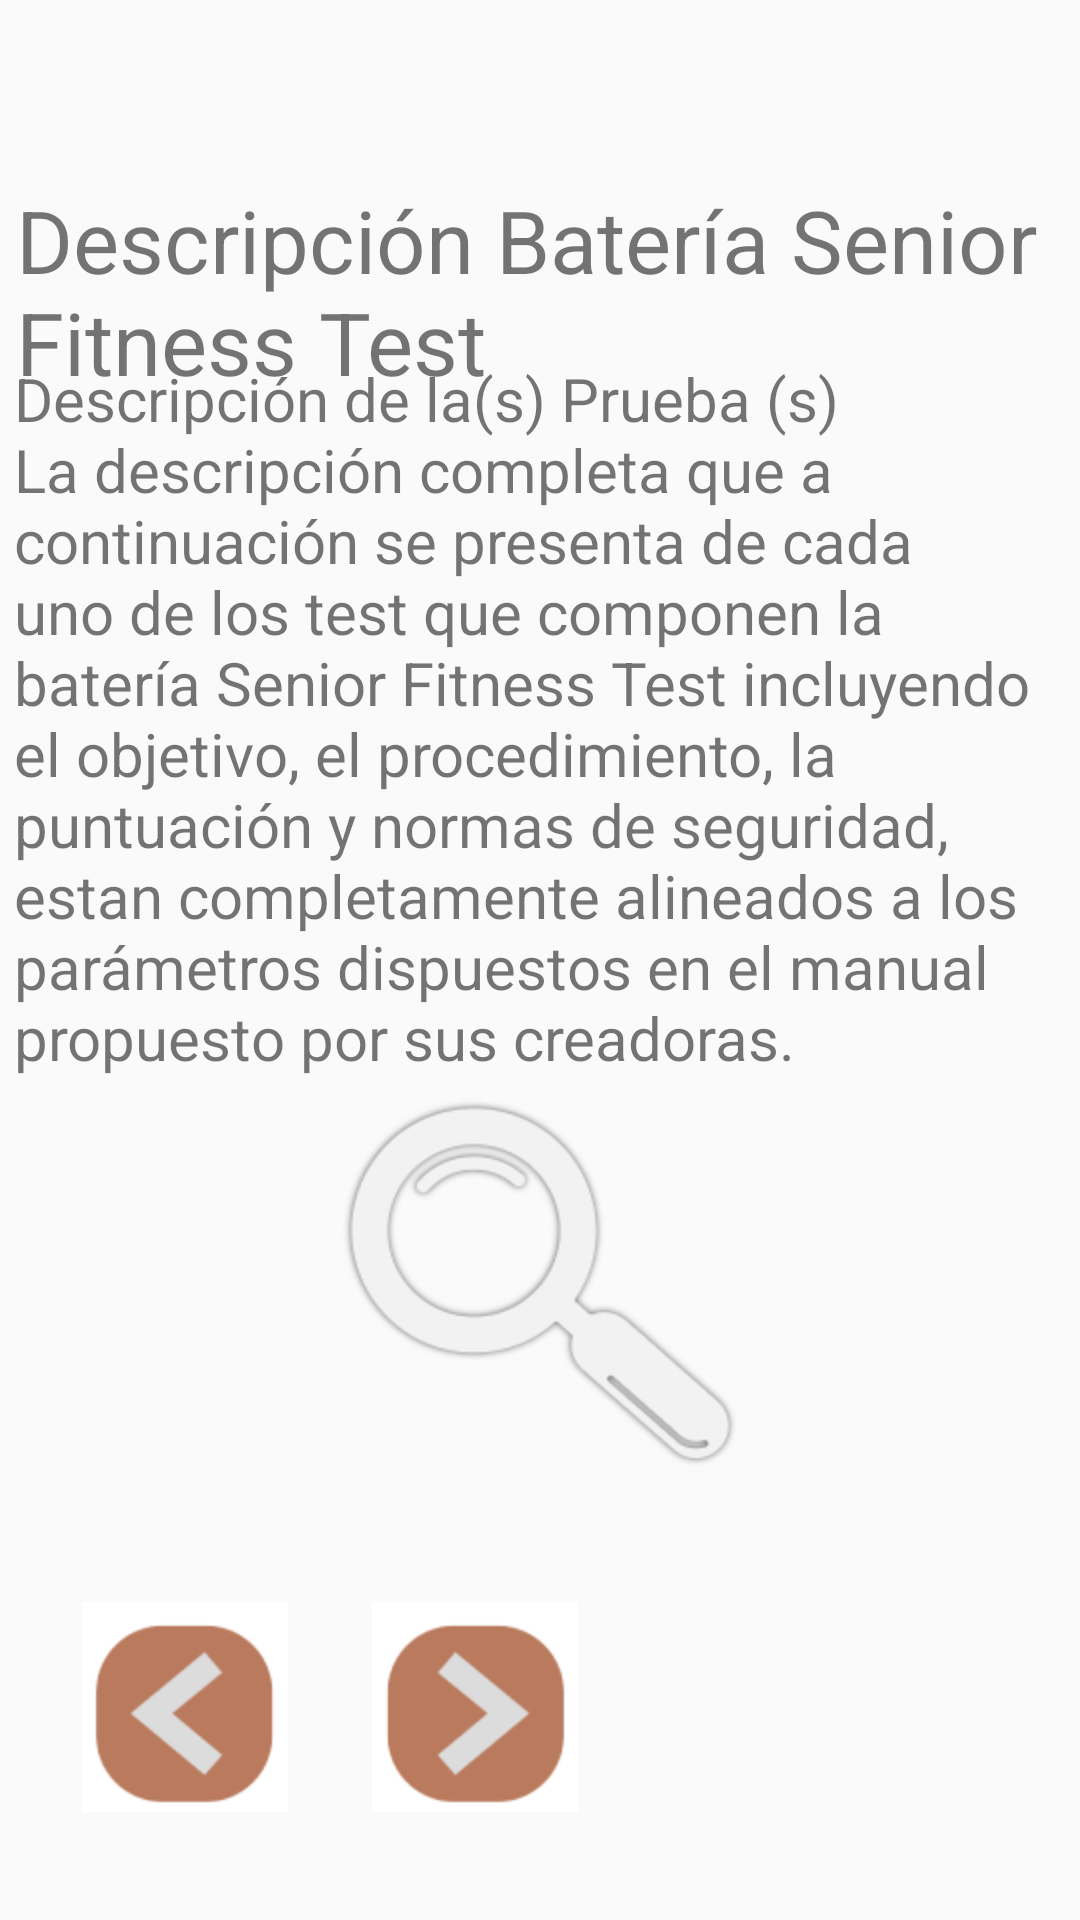

Icons on this 1080w x 1920h Android screen, each with the point to tap as [x,y]:
regresar: [184,1714]
seguir: [476,1714]
